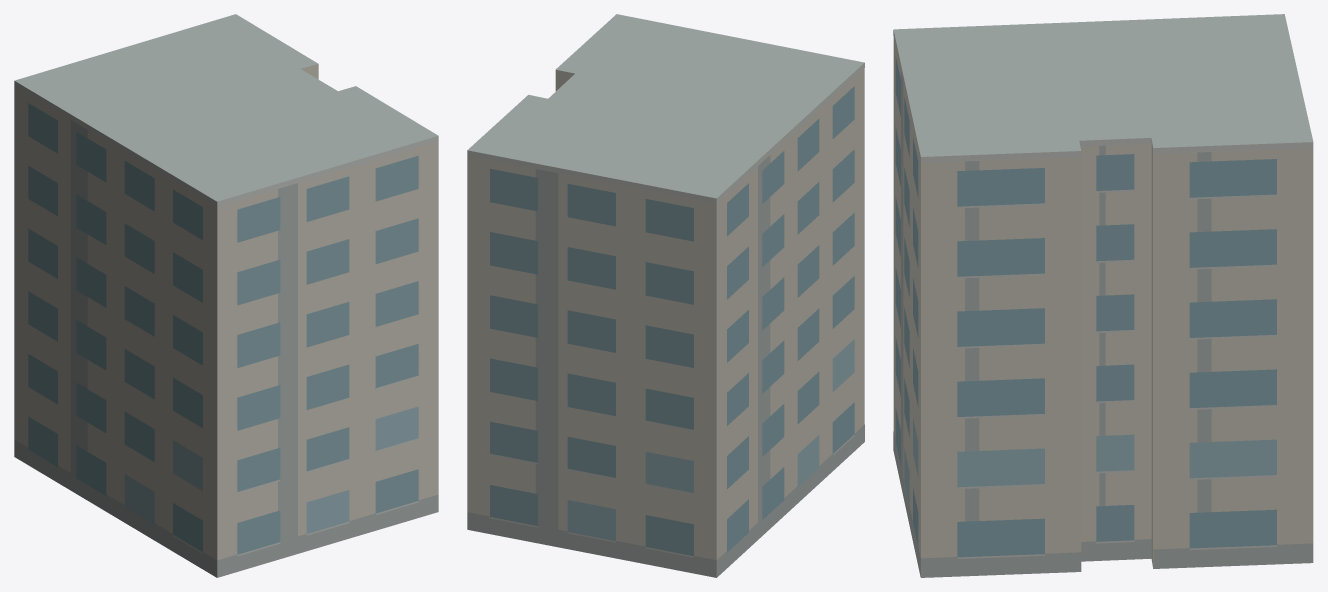
File: survey-upis-32620608.glb
3 renders of one model, left to right at view 1: azimuth 30°, elevation 25°; view 2: azimuth 150°, elevation 25°; view 3: azimuth 270°, elevation 25°, orthographic. The views are drawn at different scales.
Parts seen in each view (by area): view 1: survey-upis-32620608.tmp; view 2: survey-upis-32620608.tmp; view 3: survey-upis-32620608.tmp.
Boxes of the visible parts, x1,y1,x2,y2 form: survey-upis-32620608.tmp: [14, 14, 438, 577]; survey-upis-32620608.tmp: [467, 14, 864, 577]; survey-upis-32620608.tmp: [893, 14, 1313, 577].
Bounding box in the file's own units: 12.39 × 17 × 15.38.
